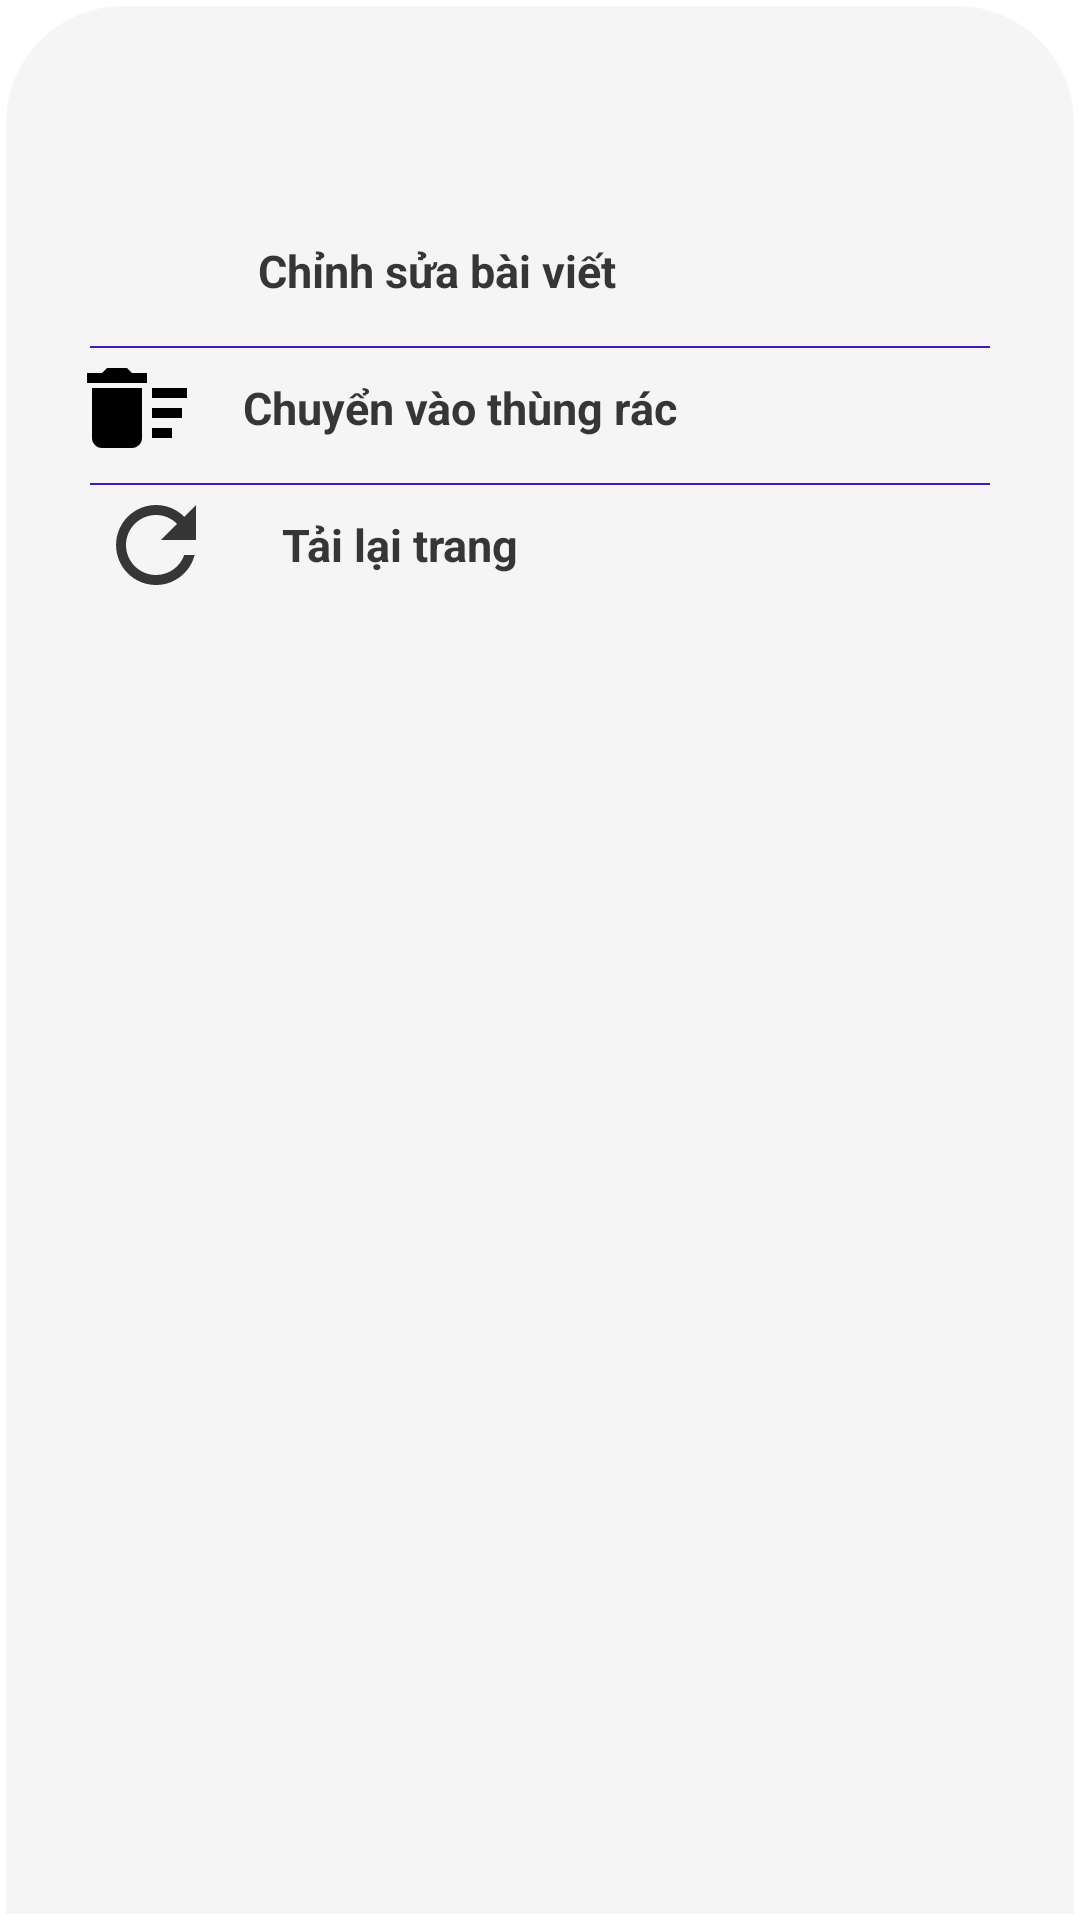

Where icons sit on this 1080px×1920px app screen, as box=[x1, y1, x2, y2]:
delete sweep: box=[87, 368, 187, 448]
refresh: box=[116, 505, 196, 585]
